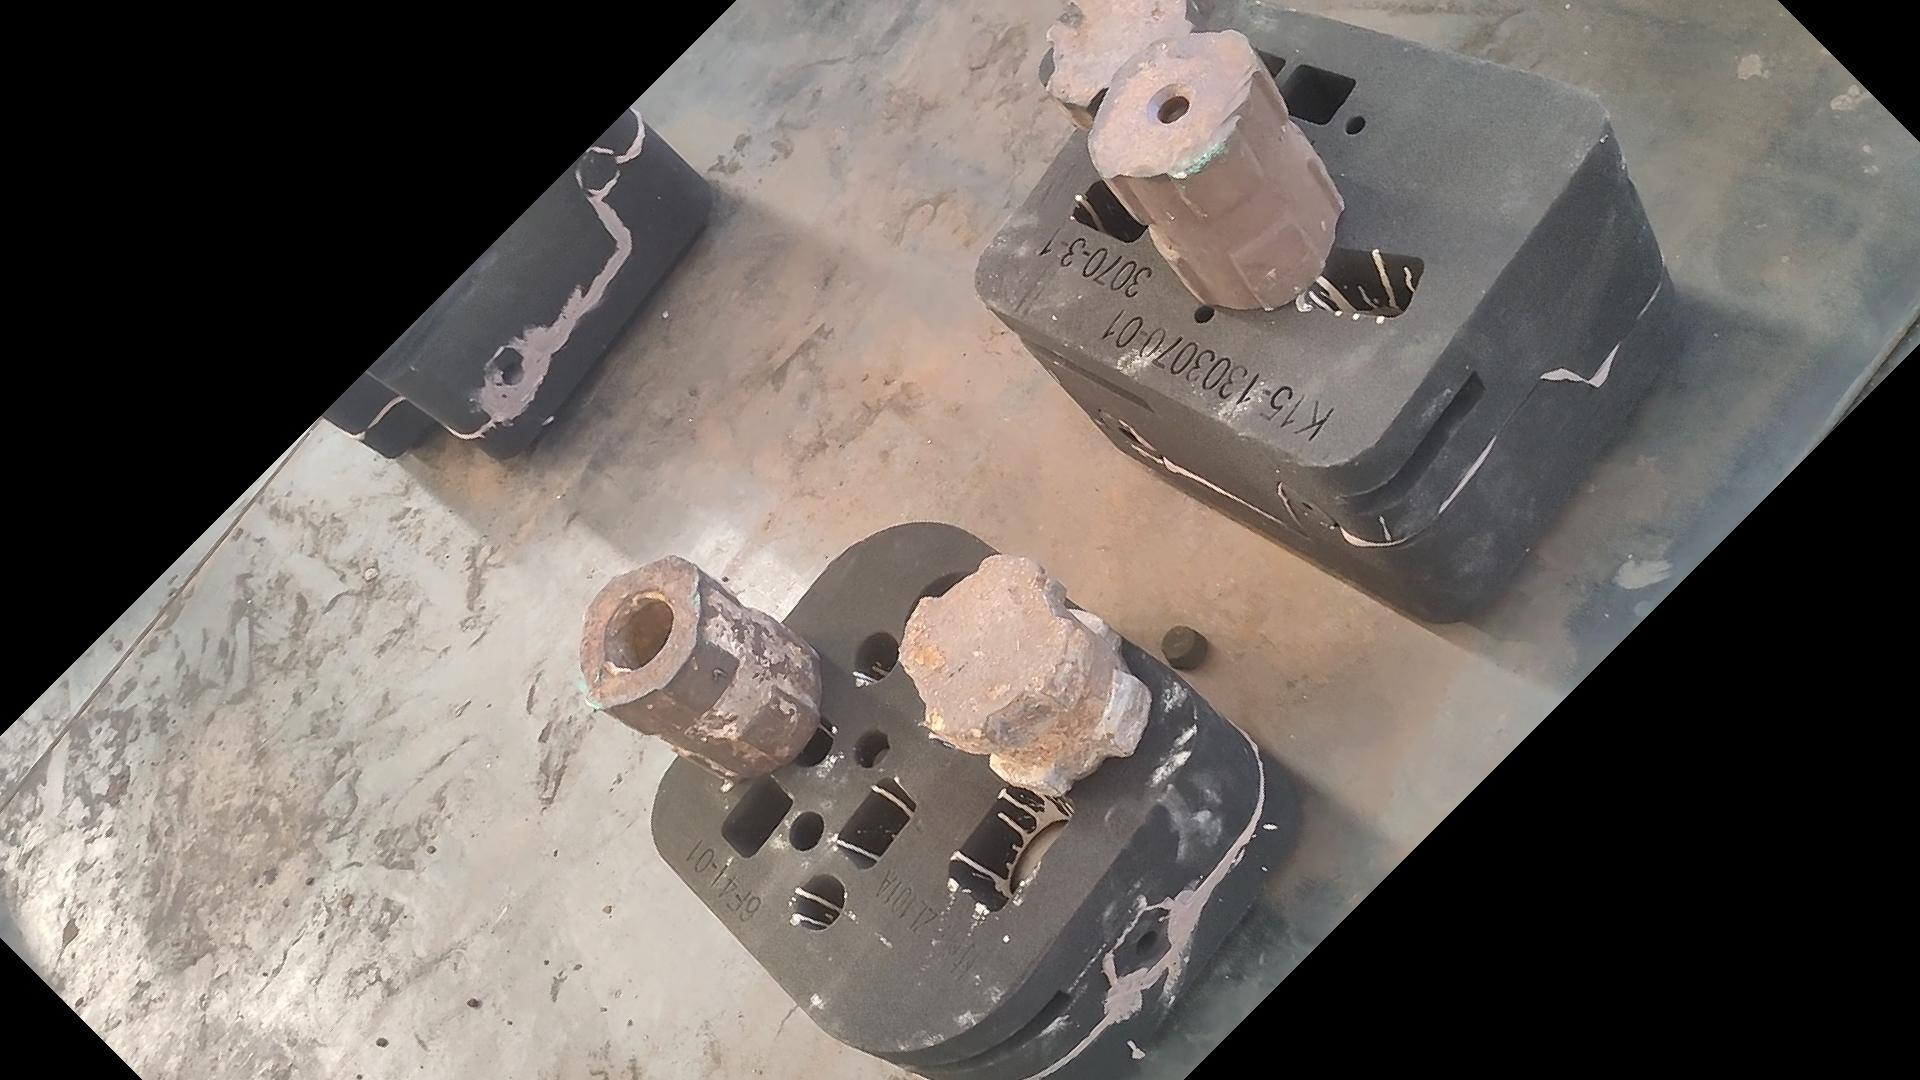pouring hole: (903, 568, 1007, 655), (1098, 15, 1187, 90)
